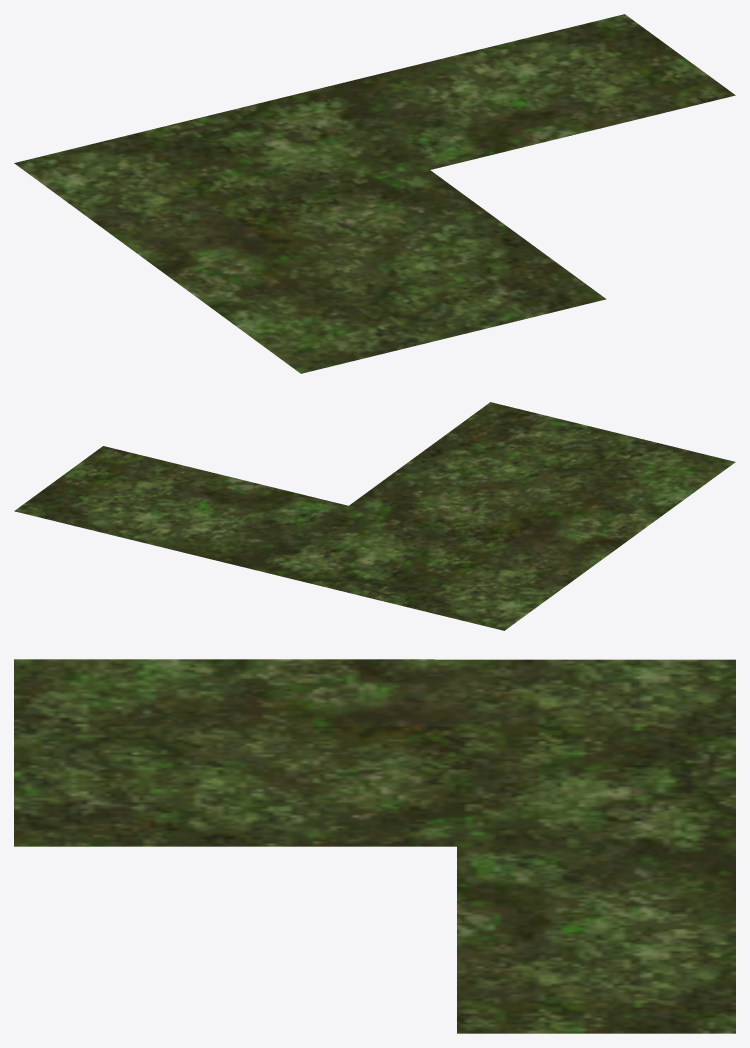
Rendered from OVERHILL_A_01_LINE227.fbx.
The picture shows the model from 3 angles, top to bottom: view 1: azimuth 30°, elevation 25°; view 2: azimuth 150°, elevation 25°; view 3: azimuth 270°, elevation 25°; orthographic projection. The views are drawn at different scales.
Visible parts, largest first — view 1: OVERHILL_A_01_LINE227; view 2: OVERHILL_A_01_LINE227; view 3: OVERHILL_A_01_LINE227.
Part boxes in pixels (bbox=[...]): OVERHILL_A_01_LINE227: bbox=[14, 14, 735, 373]; OVERHILL_A_01_LINE227: bbox=[14, 402, 735, 630]; OVERHILL_A_01_LINE227: bbox=[14, 659, 735, 1033].
Size of the model in its own units: 40000 by 0.0061 by 32591.
Materials: 1 (1 with a texture image).
